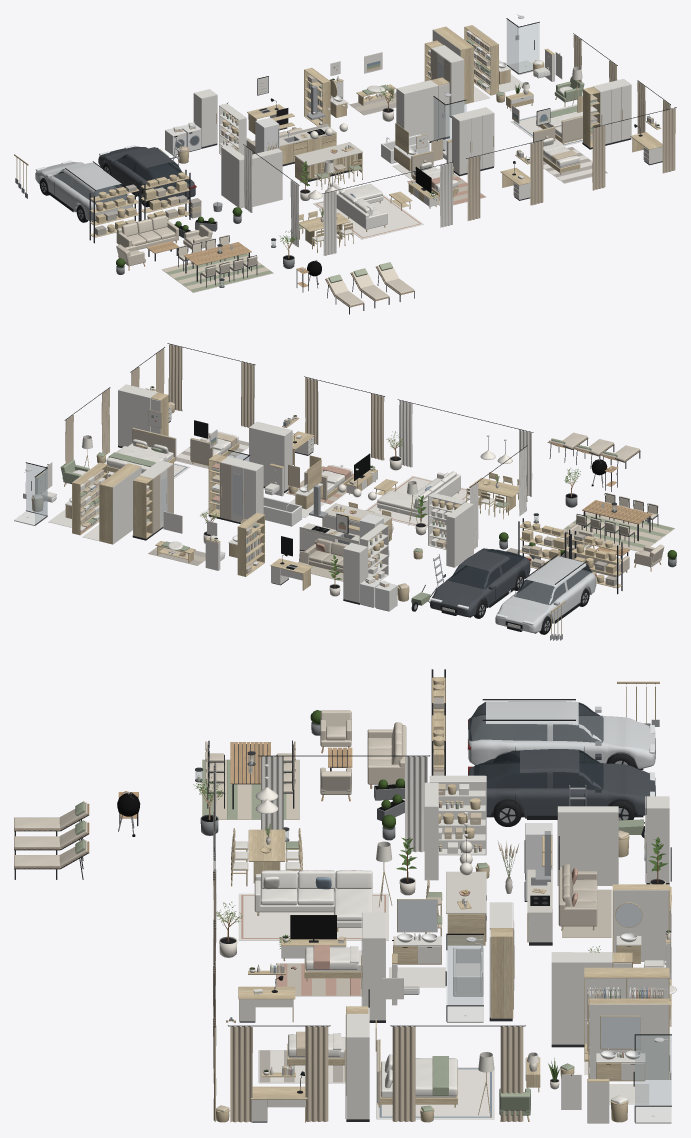
The model's file is furniture.glb.
3 views of the same model, one above another, from view 1: azimuth 30°, elevation 25°; view 2: azimuth 150°, elevation 25°; view 3: azimuth 270°, elevation 25° (orthographic). The views are drawn at different scales.
Visible parts, largest first — view 1: furniture_terrace_t_fabric, furniture_R06_f_white, furniture_R04_f_oak, furniture_R04_f_linen, furniture_R04_f_white, furniture_R03_f_white, furniture_R08_f_white, furniture_R01_f_car_paint_a, furniture_R01_f_car_paint_b, furniture_R13_f_sand, furniture_R01_f_oak, furniture_R13_f_white (+31 smaller); view 2: furniture_R01_f_car_paint_a, furniture_terrace_t_fabric, furniture_R01_f_car_paint_b, furniture_R04_f_white, furniture_R06_f_white, furniture_R04_f_linen, furniture_R13_f_sand, furniture_R03_f_white, furniture_R02_f_white, furniture_R01_f_car_glass, furniture_R08_f_white, furniture_R11_f_oak (+34 smaller); view 3: furniture_terrace_t_fabric, furniture_R01_f_car_paint_a, furniture_R04_f_linen, furniture_R01_f_car_paint_b, furniture_R02_f_white, furniture_R01_f_car_glass, furniture_R13_f_sand, furniture_R04_f_white, furniture_R11_f_white, furniture_R06_f_white, furniture_R04_f_oak, furniture_R10_f_linen (+42 smaller).
Boxes of the visible parts, x1,y1,x2,y2 form: furniture_terrace_t_fabric: [116, 215, 414, 306]; furniture_R06_f_white: [364, 45, 464, 141]; furniture_R04_f_oak: [271, 113, 438, 252]; furniture_R04_f_linen: [312, 182, 423, 241]; furniture_R04_f_white: [244, 105, 452, 255]; furniture_R03_f_white: [221, 145, 282, 208]; furniture_R08_f_white: [417, 107, 530, 199]; furniture_R01_f_car_paint_a: [35, 162, 132, 220]; furniture_R01_f_car_paint_b: [98, 146, 195, 202]; furniture_R13_f_sand: [551, 81, 675, 190]; furniture_R01_f_oak: [14, 154, 189, 237]; furniture_R13_f_white: [537, 78, 662, 164]; furniture_R01_f_car_paint_a: [495, 556, 596, 632]; furniture_terrace_t_fabric: [549, 432, 674, 577]; furniture_R01_f_car_paint_b: [430, 550, 530, 616]; furniture_R04_f_white: [299, 400, 532, 550]; furniture_R06_f_white: [133, 456, 263, 557]; furniture_R04_f_linen: [349, 471, 526, 527]; furniture_R13_f_sand: [131, 344, 254, 446]; furniture_R03_f_white: [428, 492, 473, 567]; furniture_R02_f_white: [343, 523, 389, 602]; furniture_R01_f_car_glass: [448, 548, 592, 604]; furniture_R08_f_white: [249, 417, 313, 491]; furniture_R11_f_oak: [72, 462, 140, 544]; furniture_terrace_t_fabric: [14, 710, 406, 867]; furniture_R01_f_car_paint_a: [468, 701, 655, 768]; furniture_R04_f_linen: [232, 841, 388, 943]; furniture_R01_f_car_paint_b: [468, 749, 655, 818]; furniture_R02_f_white: [557, 796, 669, 885]; furniture_R01_f_car_glass: [468, 702, 603, 789]; furniture_R13_f_sand: [213, 965, 328, 1122]; furniture_R04_f_white: [213, 756, 552, 958]; furniture_R11_f_white: [585, 978, 668, 1079]; furniture_R06_f_white: [489, 902, 671, 1044]; furniture_R04_f_oak: [231, 828, 552, 961]; furniture_R10_f_linen: [376, 1054, 494, 1119].
Size of the model in its own units: 22.95 by 2.78 by 16.3.
45 materials, 3 textured.
